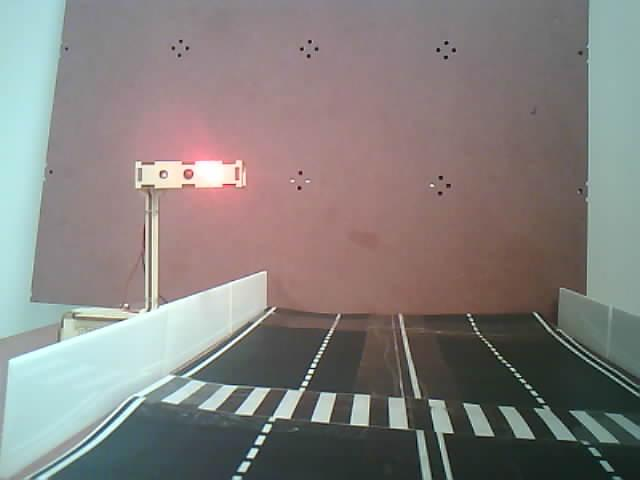crosswalk: (117, 359, 640, 459)
no: (121, 146, 274, 229)
